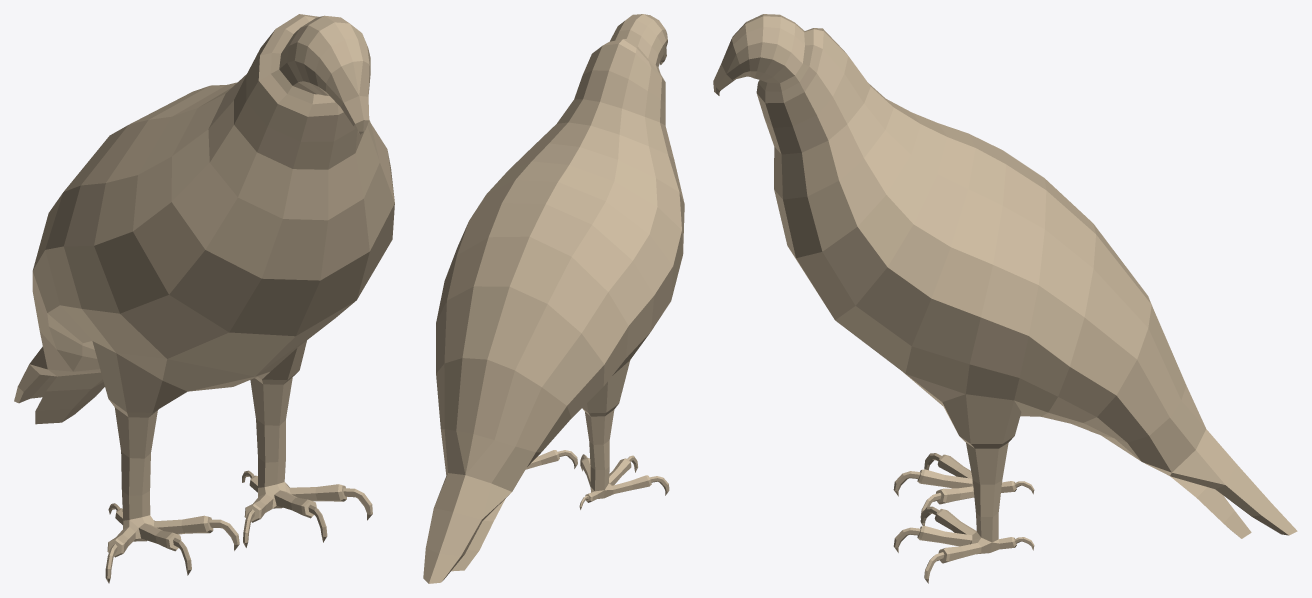
Rendered from gudiao.glb.
3 views of the same model, side by side, from view 1: azimuth 30°, elevation 25°; view 2: azimuth 150°, elevation 25°; view 3: azimuth 270°, elevation 25° (orthographic). The views are drawn at different scales.
Parts seen in each view (by area): view 1: TurkeyVulture_mesh2; view 2: TurkeyVulture_mesh2; view 3: TurkeyVulture_mesh2.
Part boxes in pixels (x1,y1,x2,y2): TurkeyVulture_mesh2: (14,14,394,583); TurkeyVulture_mesh2: (423,14,684,583); TurkeyVulture_mesh2: (713,14,1297,583).
Bounding box in the file's own units: 5.38 × 10.81 × 11.09.
